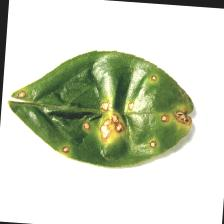canker: (18, 75, 192, 164)
